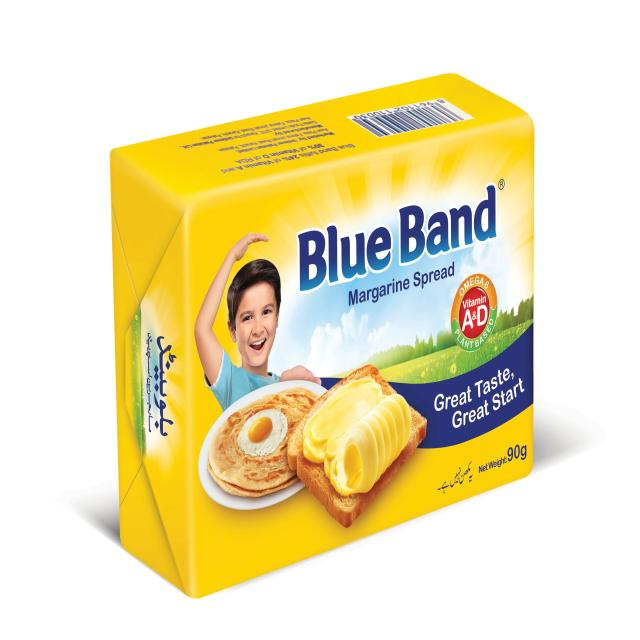butter: (78, 54, 547, 612)
